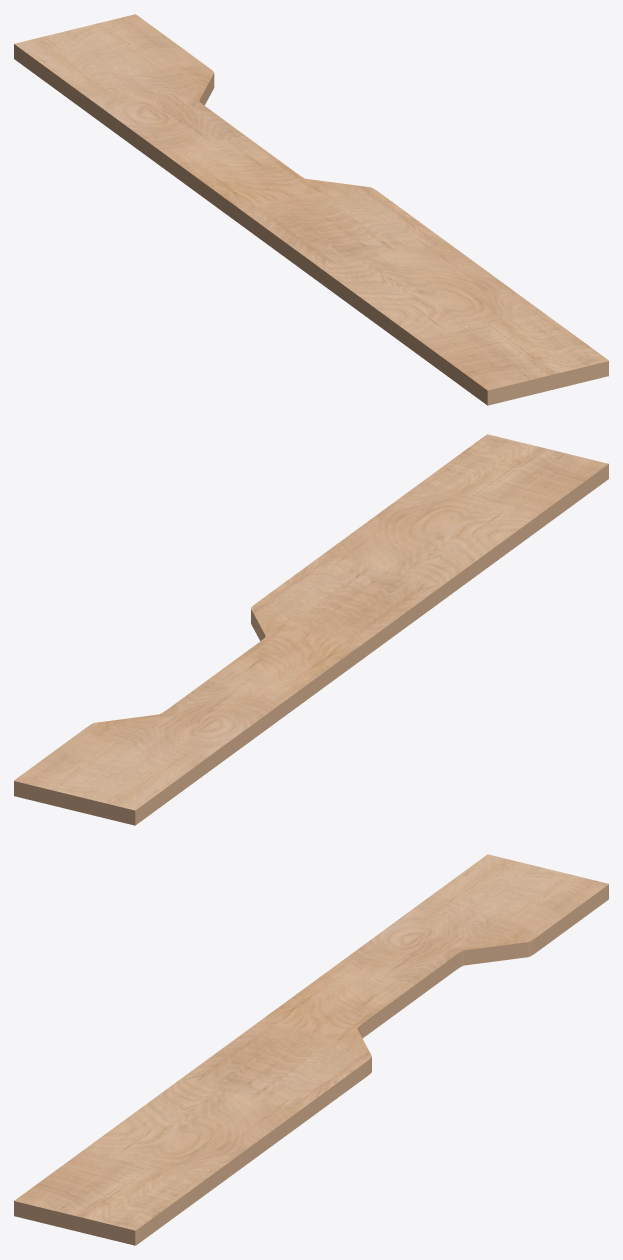
The model's file is shelf.glb.
3 renders of one model, top to bottom at view 1: azimuth 30°, elevation 25°; view 2: azimuth 150°, elevation 25°; view 3: azimuth 330°, elevation 25°, orthographic.
Parts seen in each view (by area): view 1: Cube.003; view 2: Cube.003; view 3: Cube.003.
Boxes of the visible parts, x1,y1,x2,y2 form: Cube.003: (14, 14, 608, 405); Cube.003: (14, 434, 608, 825); Cube.003: (14, 854, 608, 1245).
Bounding box in the file's own units: 4.73 × 0.5617 × 31.9.
1 material, 1 textured.
